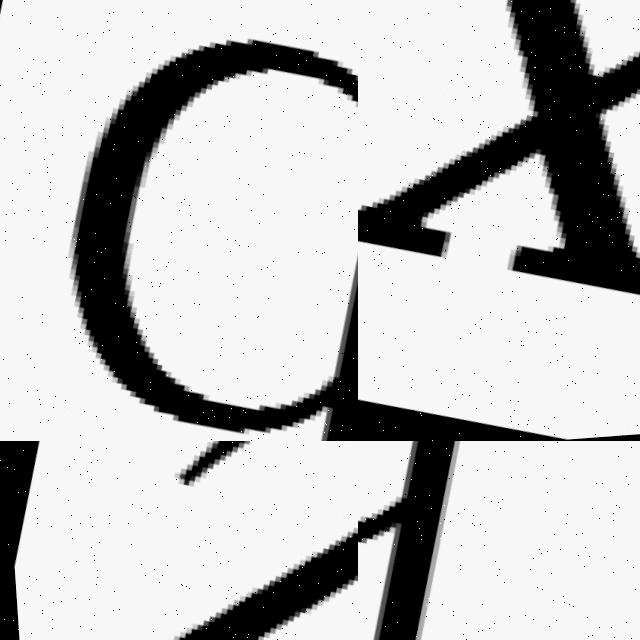B: (358, 441, 457, 640)
P: (67, 42, 358, 441)
X: (358, 0, 640, 369)
Z: (8, 441, 358, 640)
